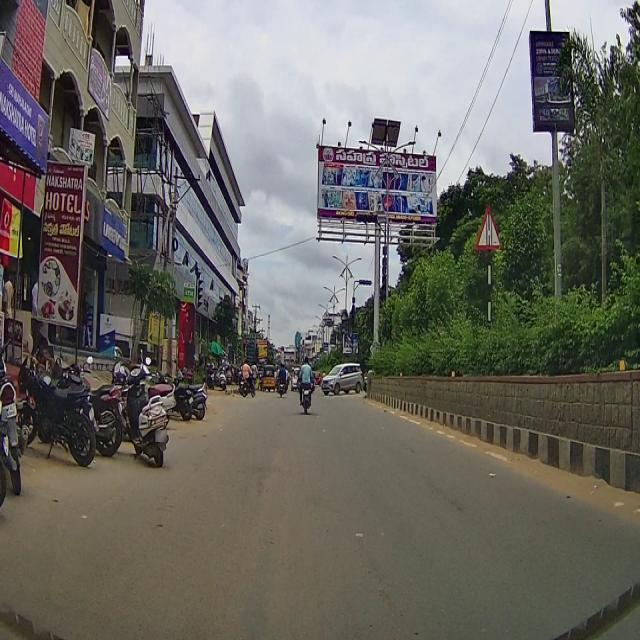gap-in-median: (476, 203, 502, 251)
